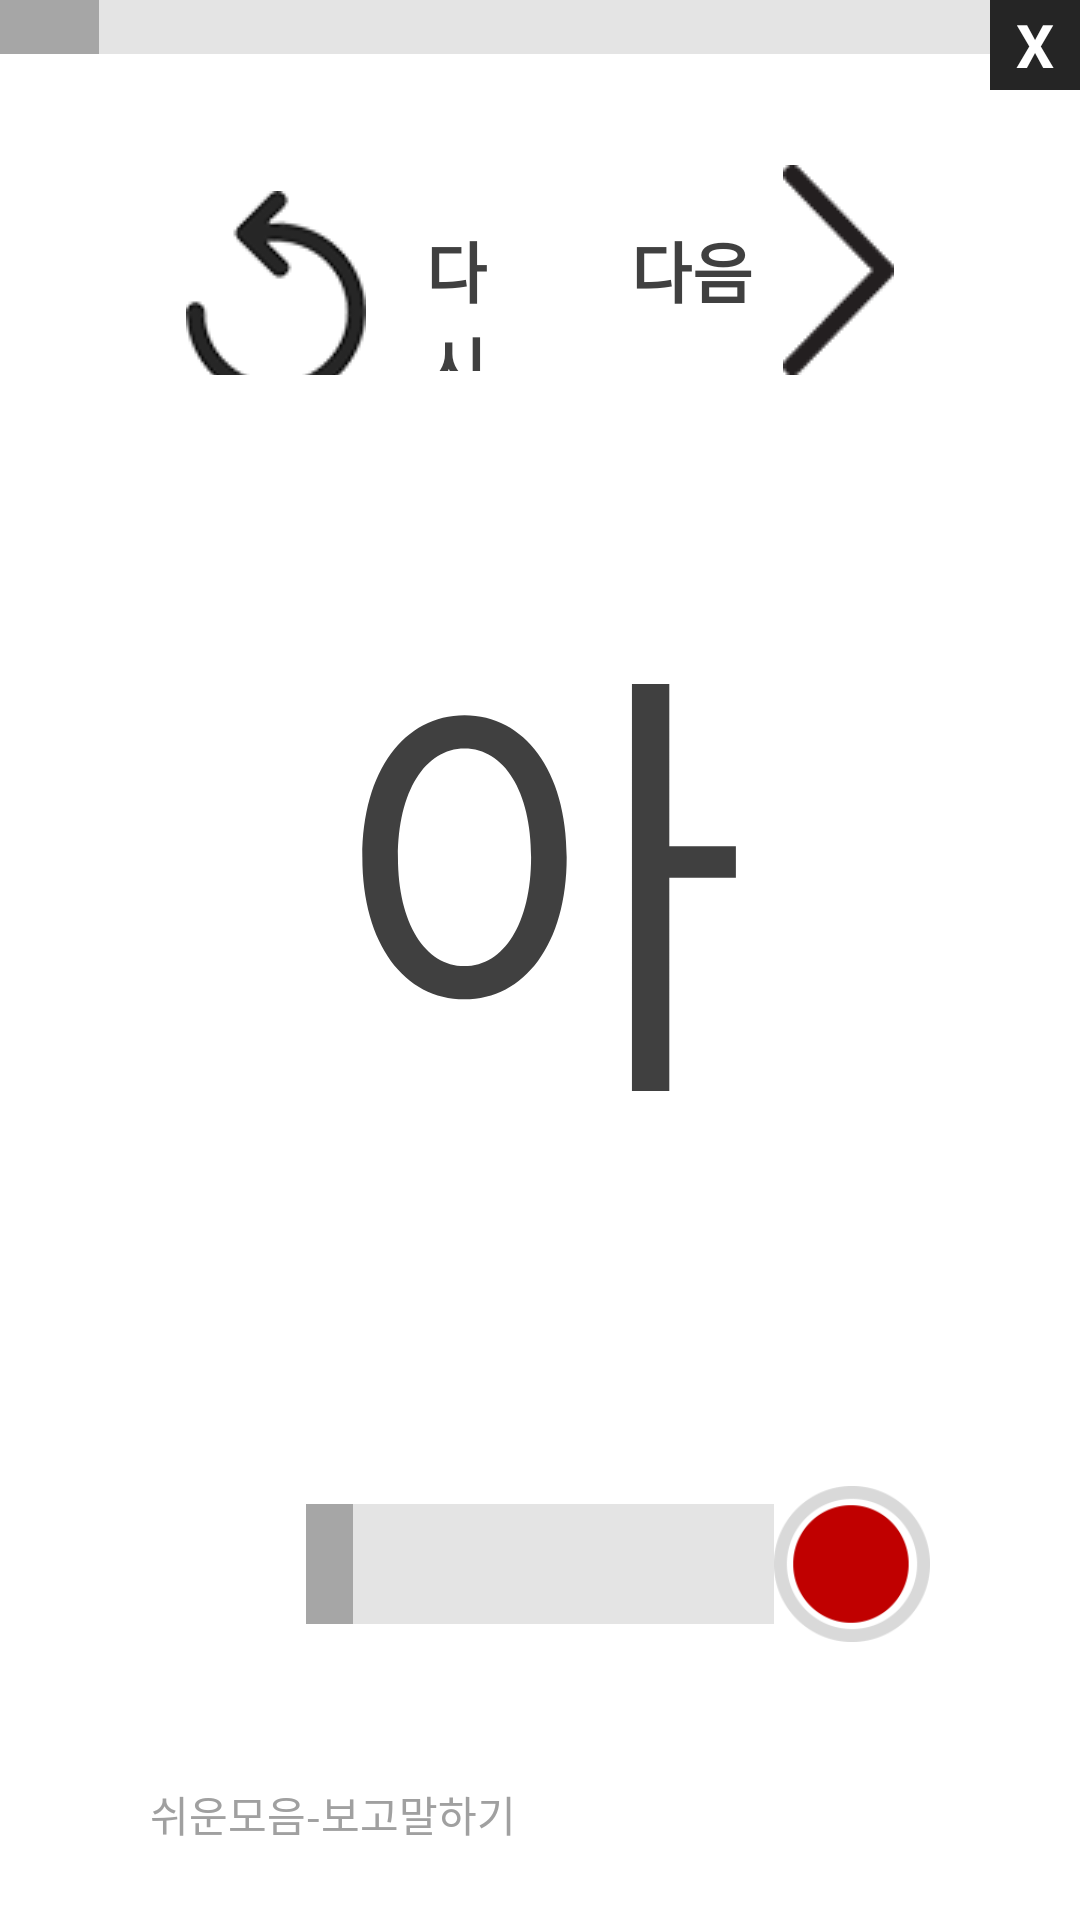

Locate icon controls on the screen. Image size 1080*1920, boxes as (x1, y1, x2, y2).
record: (793, 1505, 909, 1623)
